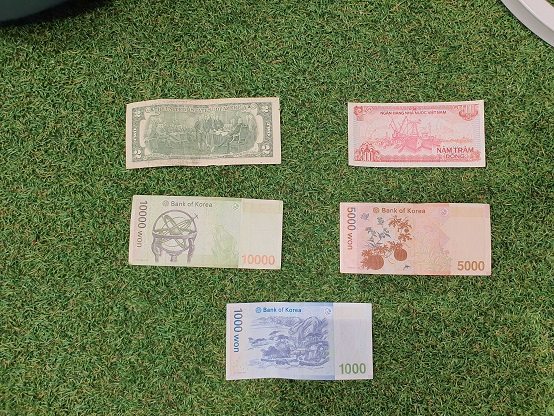10000won: (129, 195, 284, 268)
1000won: (226, 301, 374, 382)
2dollar: (124, 96, 281, 167)
5000won: (339, 203, 492, 276)
500vnd: (347, 100, 485, 167)
